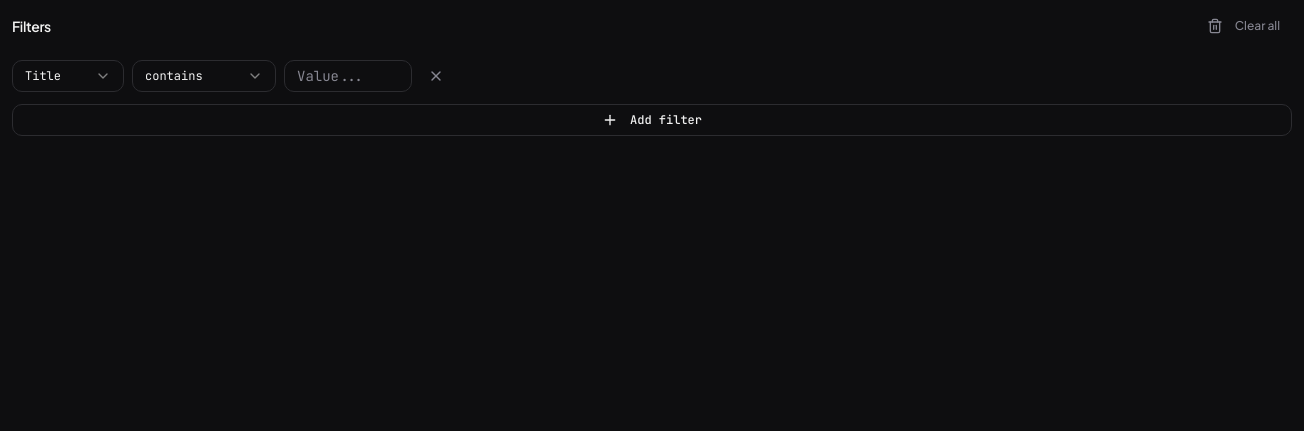
Scenario: FilterRuleEditor — filterableFields › offers every field by default
Step 1. Click the dropdown labelled "Title" → (68, 76), box [12,60,124,92]
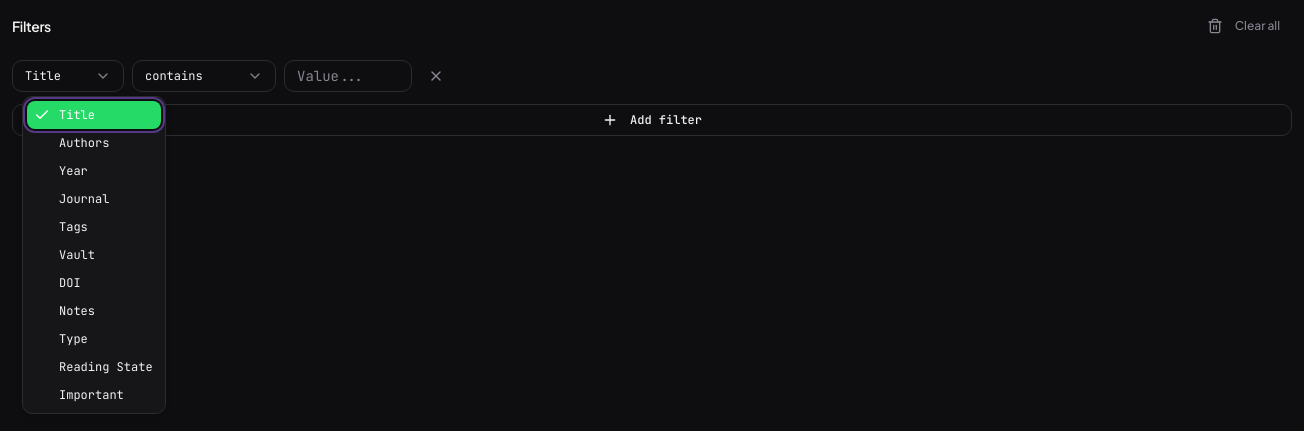
Expected: the option "Notes" is shown, [59,303,95,319]
Expected: the option "Vault" is shown, [59,247,95,263]
Expected: the option "Reading State" is shown, [59,359,153,375]
